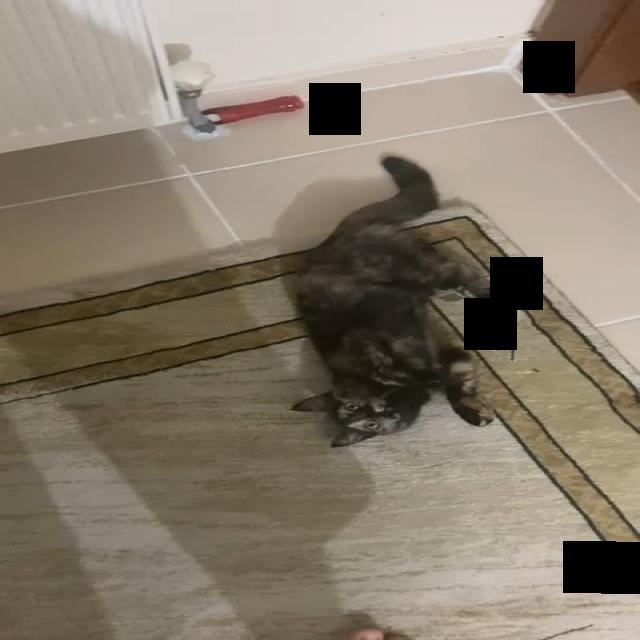authorized: (288, 152, 511, 448)
